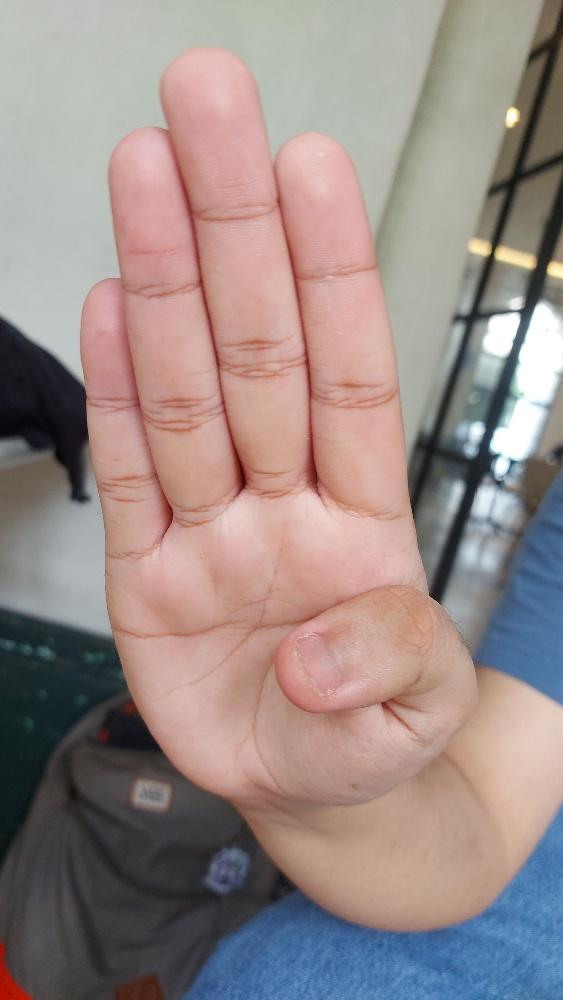b: (77, 43, 478, 806)
